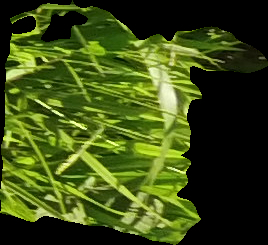grass: (1, 1, 267, 244)
